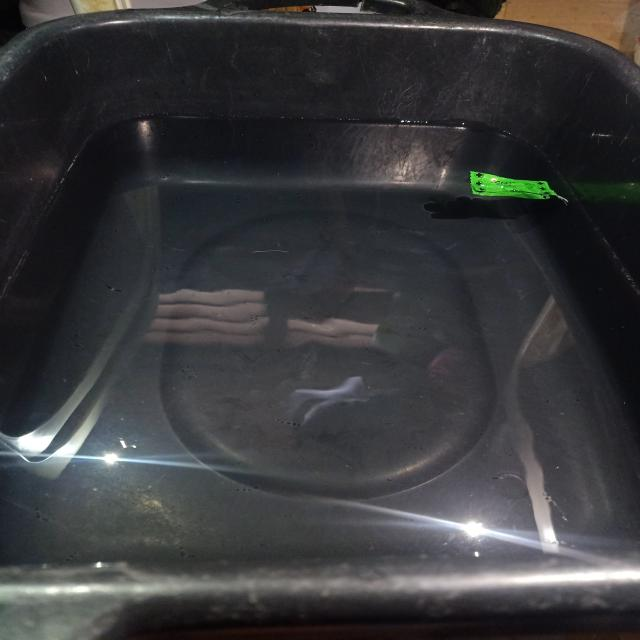Plastic Wrapper: (450, 157, 587, 229)
